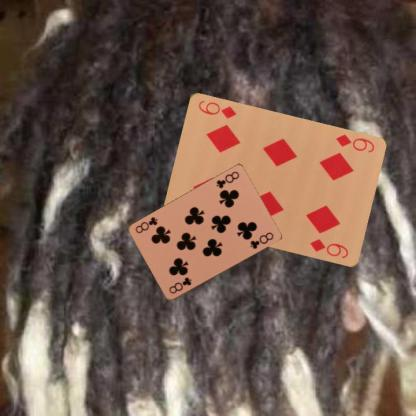6d: (332, 132, 376, 154)
8c: (166, 274, 192, 296), (214, 169, 240, 190)
